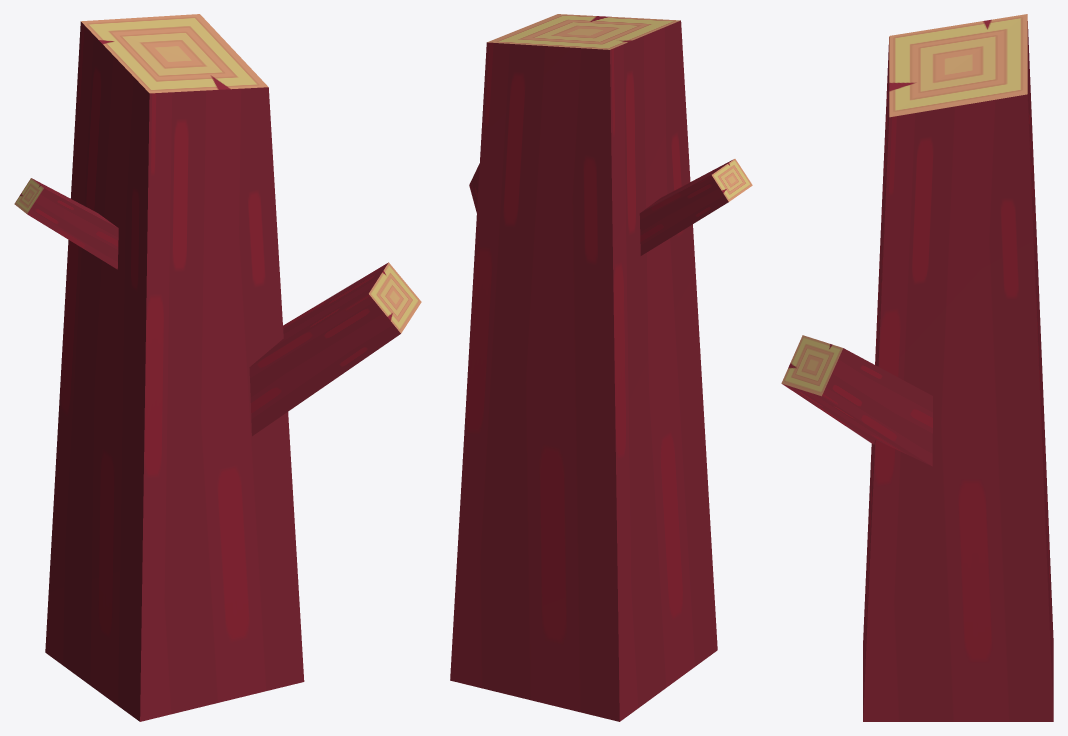
Rendered from BG_006_bough.FBX.
3 renders of one model, left to right at view 1: azimuth 30°, elevation 25°; view 2: azimuth 150°, elevation 25°; view 3: azimuth 270°, elevation 25°, orthographic. The views are drawn at different scales.
Parts seen in each view (by area): view 1: BG_006_bough; view 2: BG_006_bough; view 3: BG_006_bough.
Part boxes in pixels (bbox=[...]): BG_006_bough: bbox=[14, 14, 421, 721]; BG_006_bough: bbox=[450, 14, 752, 721]; BG_006_bough: bbox=[781, 14, 1053, 721].
Bounding box in the file's own units: 150 × 272 × 105.
